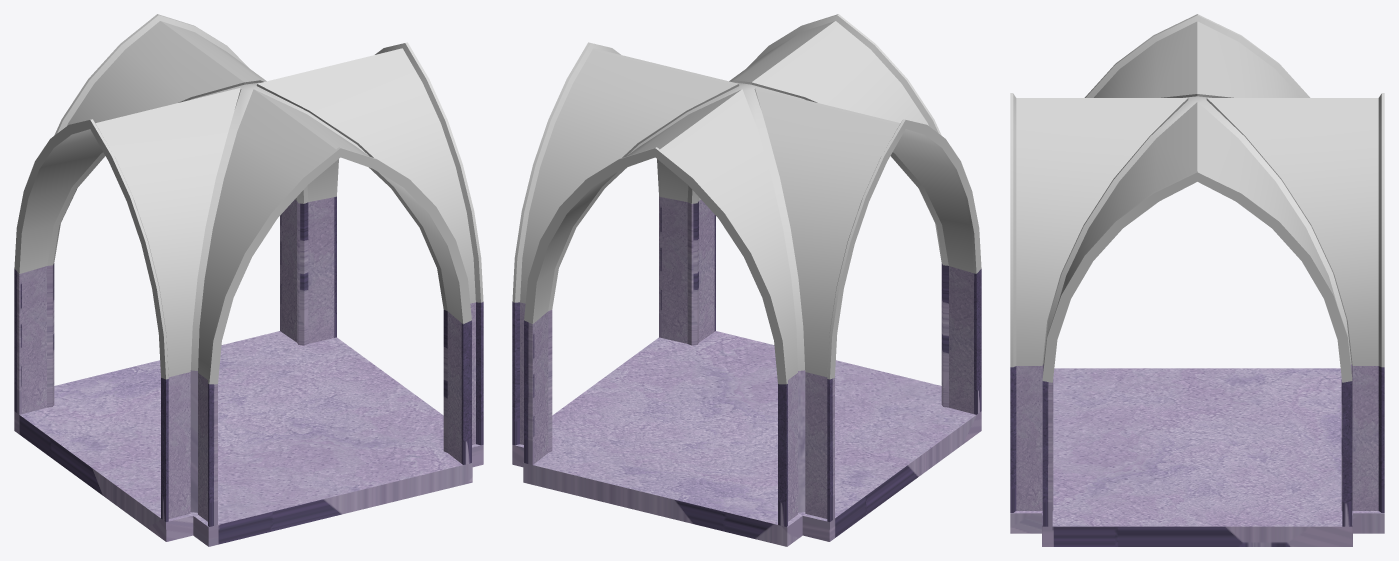
The model's file is Dome.fbx.
3 views of the same model, side by side, from view 1: azimuth 30°, elevation 25°; view 2: azimuth 150°, elevation 25°; view 3: azimuth 270°, elevation 25° (orthographic). The views are drawn at different scales.
Parts seen in each view (by area): view 1: Dome; view 2: Dome; view 3: Dome.
Part boxes in pixels (box(x1,y1,x2,y2)): Dome: box(14, 14, 483, 546); Dome: box(512, 14, 981, 546); Dome: box(1010, 14, 1384, 546).
Size of the model in its own units: 840 by 927 by 840.
2 materials, 1 textured.
